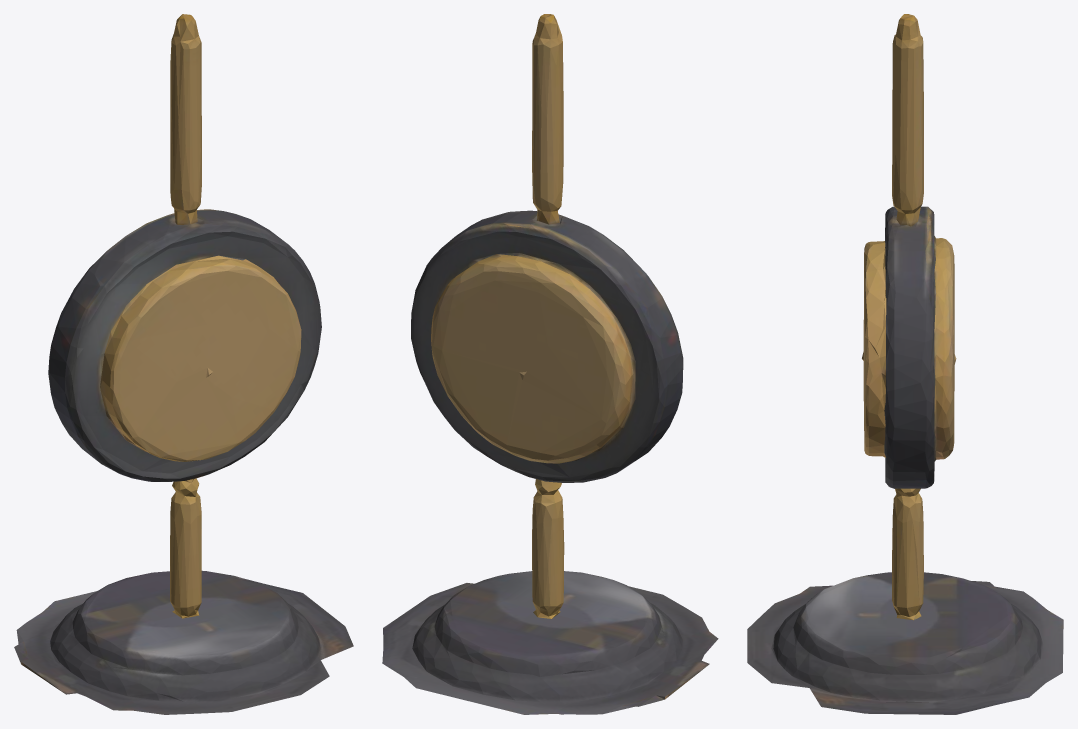
The model's file is clock_pendulum.glb.
3 views of the same model, side by side, from view 1: azimuth 30°, elevation 25°; view 2: azimuth 150°, elevation 25°; view 3: azimuth 270°, elevation 25° (orthographic).
Visible parts, largest first — view 1: textured_mesh.obj; view 2: textured_mesh.obj; view 3: textured_mesh.obj.
Boxes of the visible parts, x1,y1,x2,y2 form: textured_mesh.obj: (14, 14, 353, 714); textured_mesh.obj: (382, 14, 718, 714); textured_mesh.obj: (747, 14, 1063, 714).
Bounding box in the file's own units: 1.31 × 2.8 × 1.27.
Materials: 1 (1 with a texture image).
